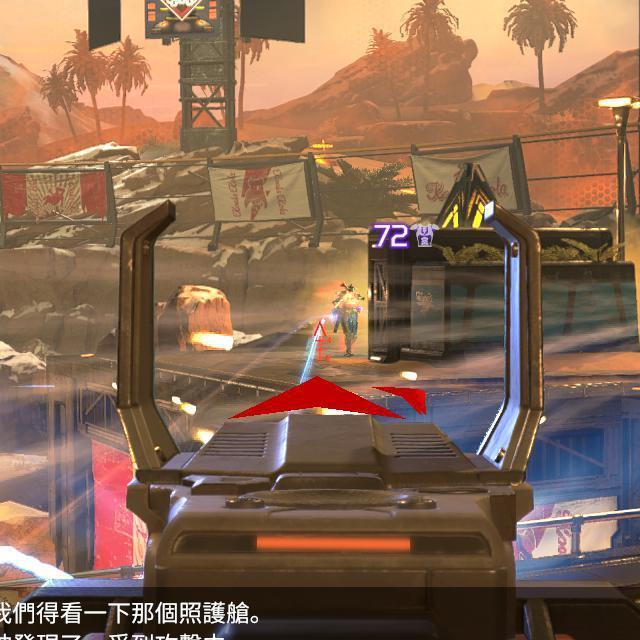avatar: (331, 283, 362, 356)
